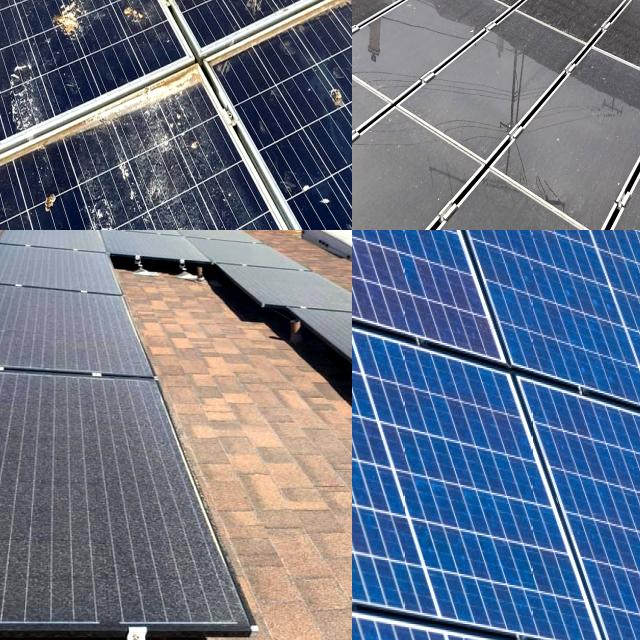bird: (152, 104, 203, 212), (209, 0, 296, 42), (4, 51, 44, 134), (301, 69, 352, 131), (33, 0, 92, 53), (77, 184, 138, 230), (26, 170, 71, 230), (0, 0, 42, 61), (0, 0, 18, 136), (150, 0, 189, 59), (109, 0, 162, 43), (0, 0, 43, 38), (313, 0, 352, 32), (243, 0, 297, 23)
crack: (352, 230, 640, 640)
dust: (20, 516, 198, 616), (56, 402, 166, 518), (462, 0, 609, 77), (533, 45, 608, 187), (360, 94, 433, 230), (352, 0, 455, 89), (0, 515, 73, 619), (0, 425, 76, 504), (90, 230, 260, 256), (352, 78, 385, 204), (248, 266, 326, 312), (64, 303, 122, 364), (0, 278, 55, 342), (0, 252, 92, 282), (0, 371, 46, 416), (21, 230, 77, 256), (622, 0, 640, 75)
